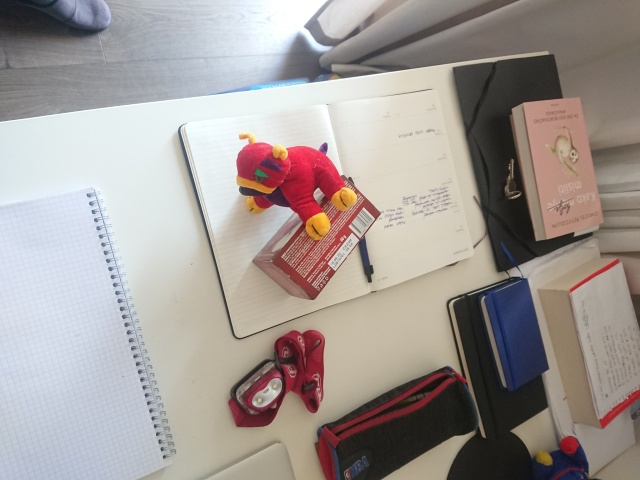Franck Apple Cinnamon Tea 60g: (249, 171, 382, 301)
